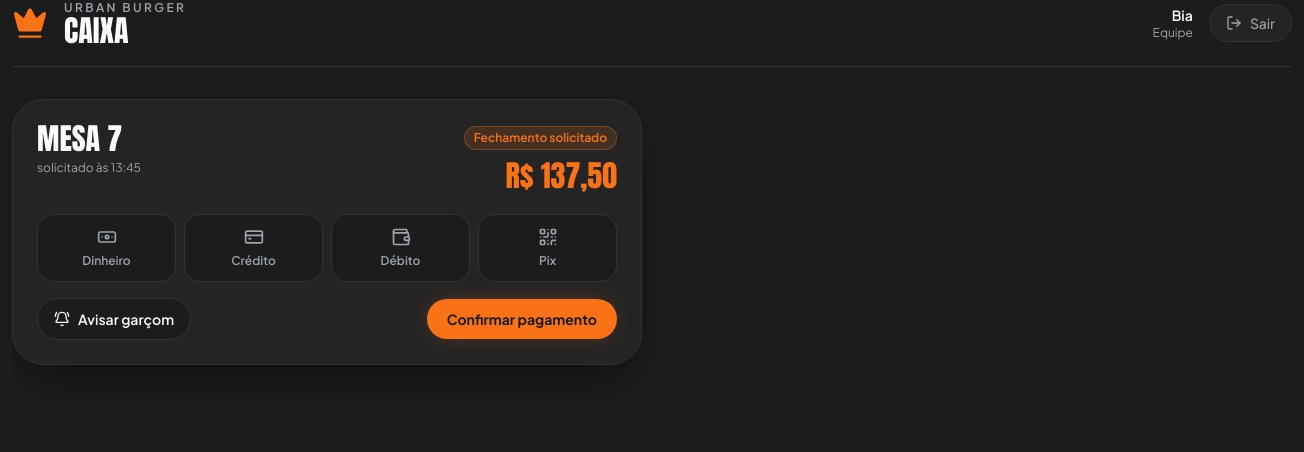
Test case: CaixaDashboard — confirmar pagamento › pede para escolher a forma de pagamento antes de confirmar
The width and height of the screenshot is (1304, 452).
Click the button "Confirmar pagamento".
click(522, 319)  # box [427,299,617,339]
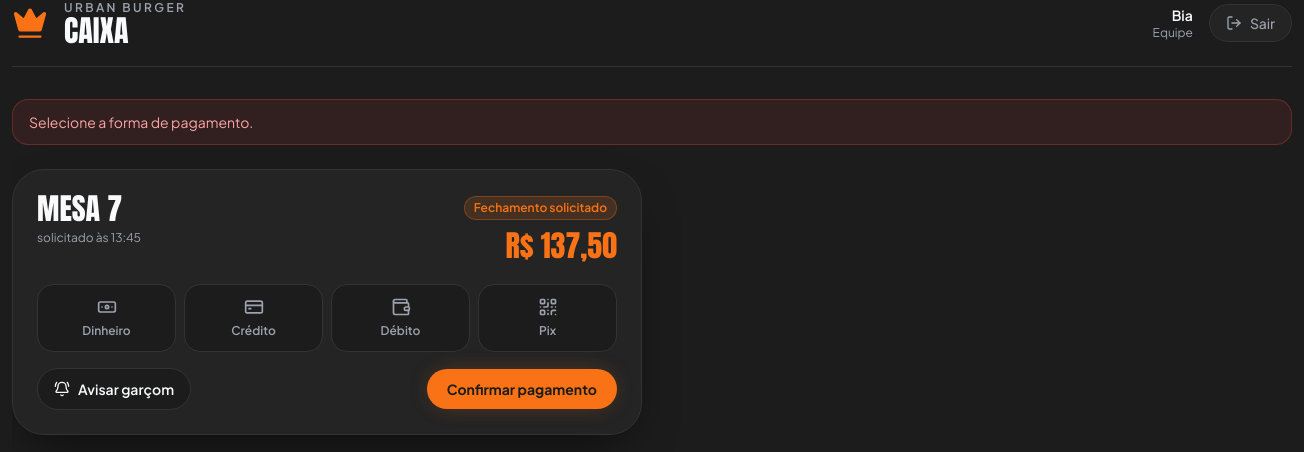
Expected: the text "Selecione a forma de pagamento." is shown, [12,99,1292,145]
